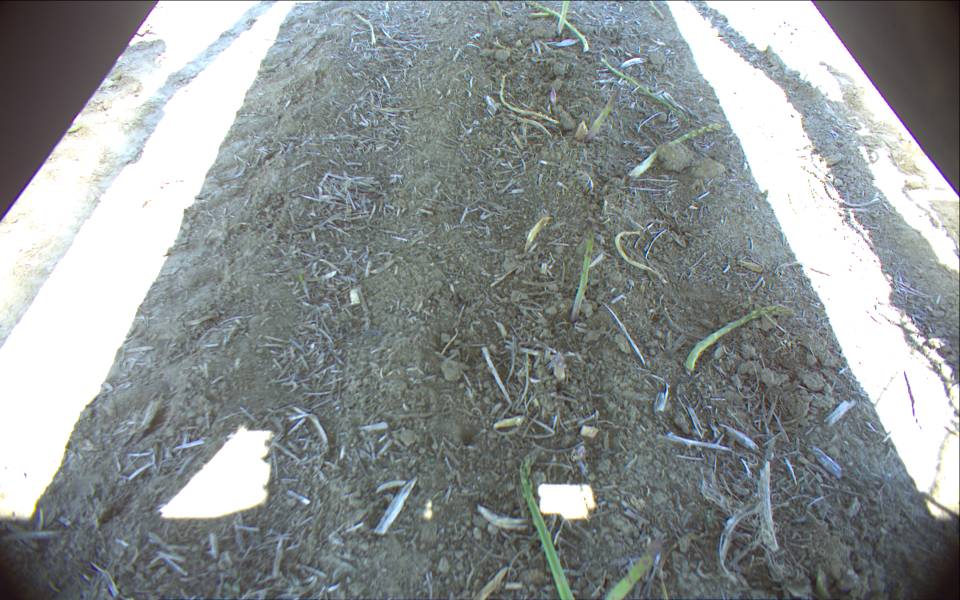aspa: (511, 446, 578, 600), (594, 533, 662, 600), (568, 219, 598, 325), (552, 1, 575, 38)
